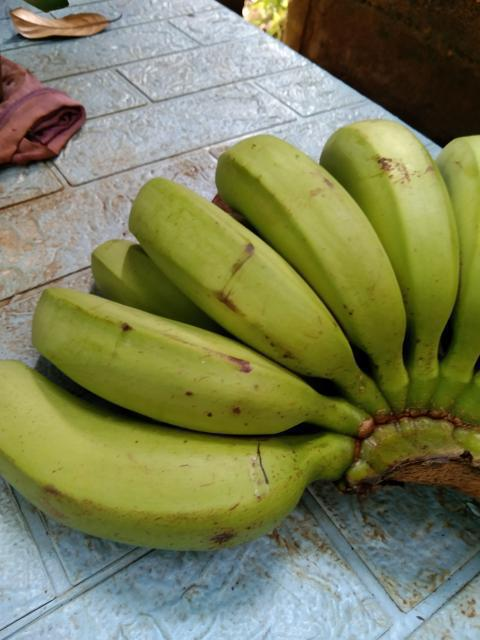freshunripe: (0, 350, 327, 555), (211, 124, 408, 358), (313, 105, 459, 357), (430, 131, 479, 367)
unripe: (126, 167, 353, 375), (23, 276, 331, 429)
